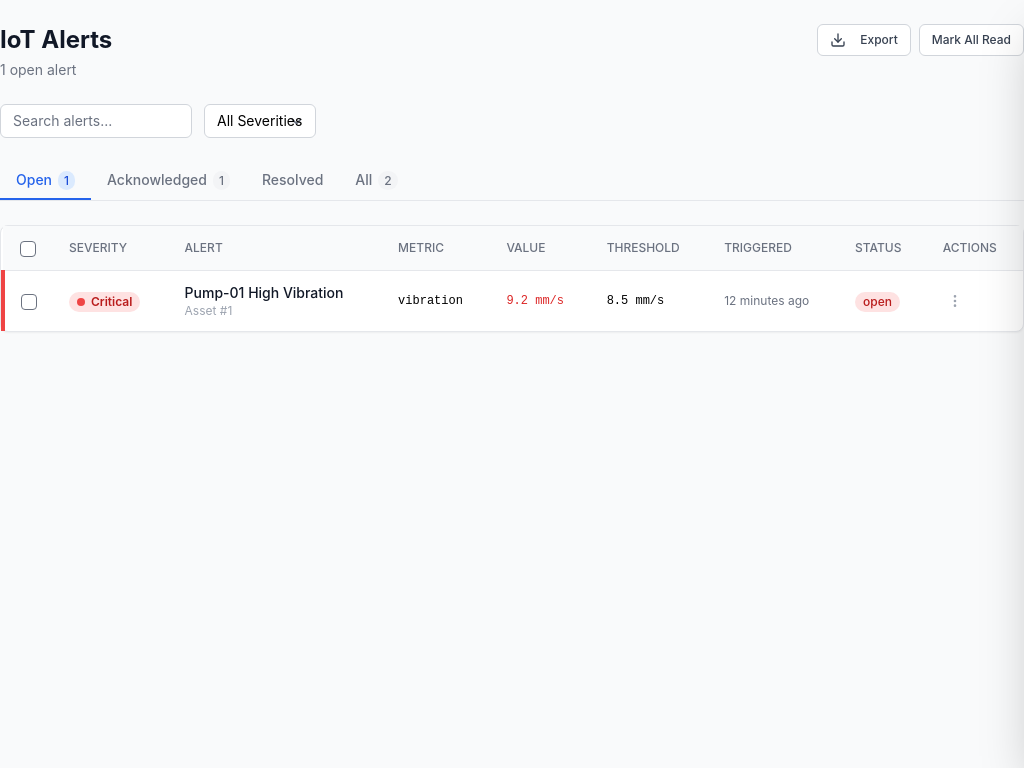
it: IoTAlertsPage › alert row click opens detail panel
Click the text "Pump-01 High Vibration" at (275, 293), box [185,283,365,303]
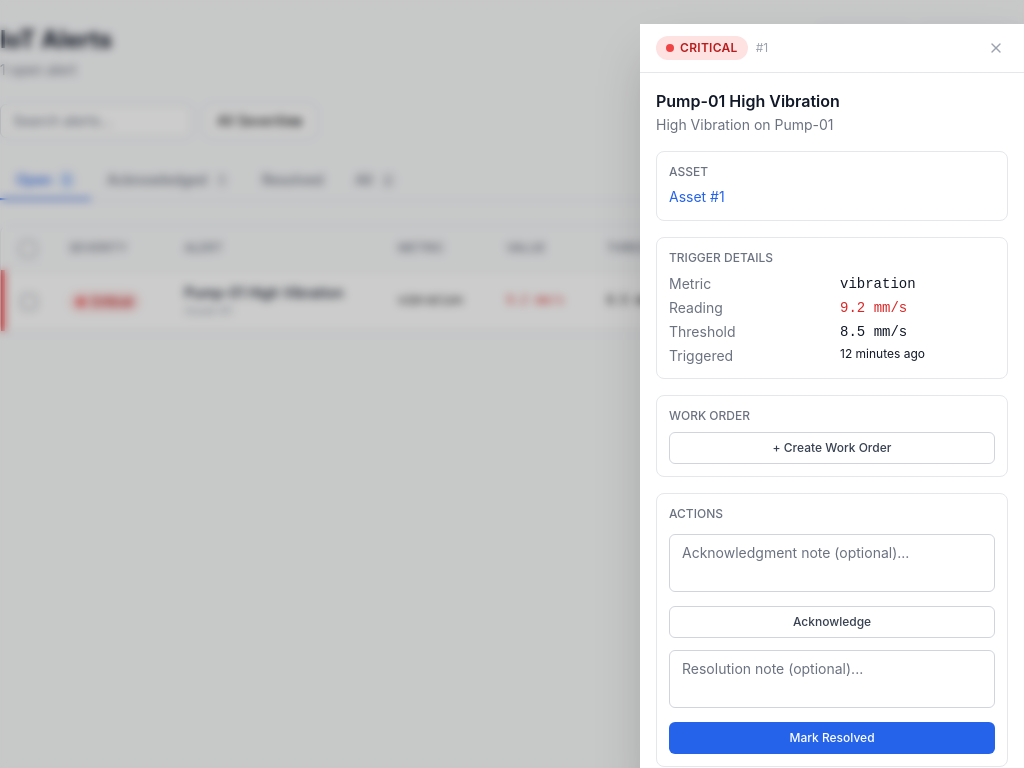
Check: the heading "Pump-01 High Vibration" is shown, box [656,91,840,111]
